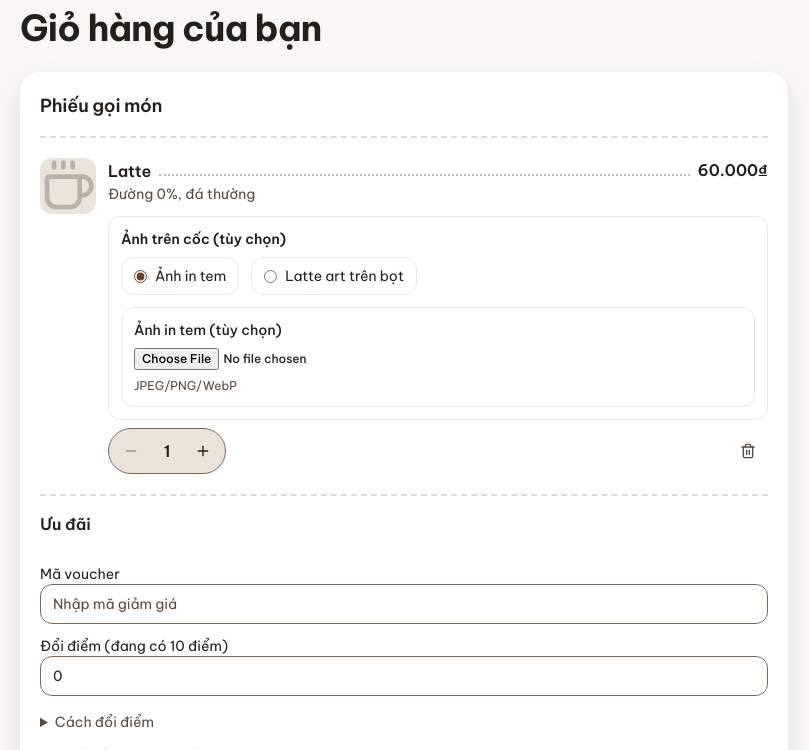
Scenario: members and promotions UI › shows exclusive voucher policy without silently discarding the selected points
Replace the text in the number field named "Điểm muốn đổi" with "10" at (404, 676), box x1=40 y1=656 x2=768 y2=696
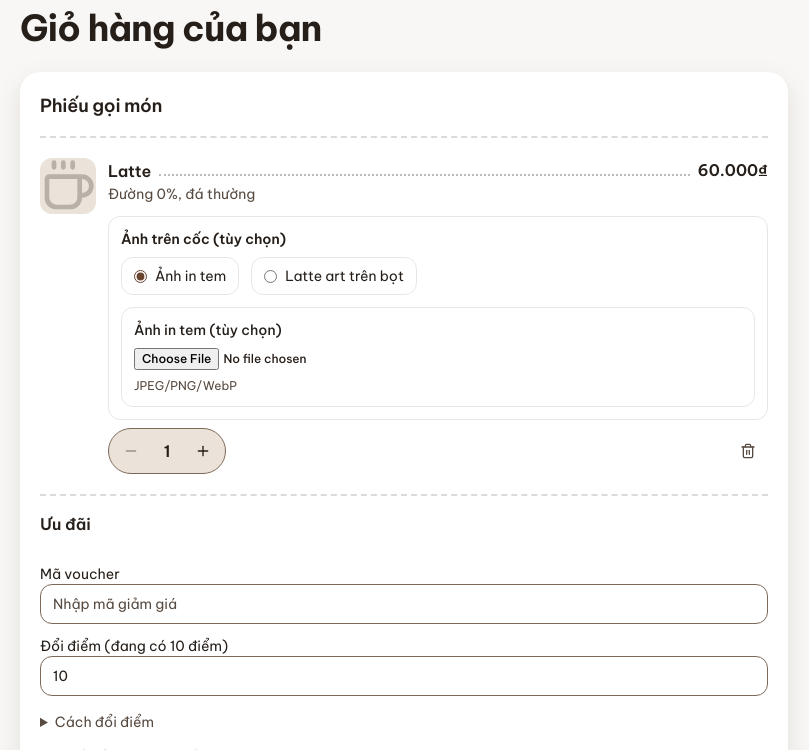
Type "SAVE10" into the field labelled "Mã voucher".
click(404, 604); type("SAVE10")  # box x1=40 y1=584 x2=768 y2=624
(page scrolled)
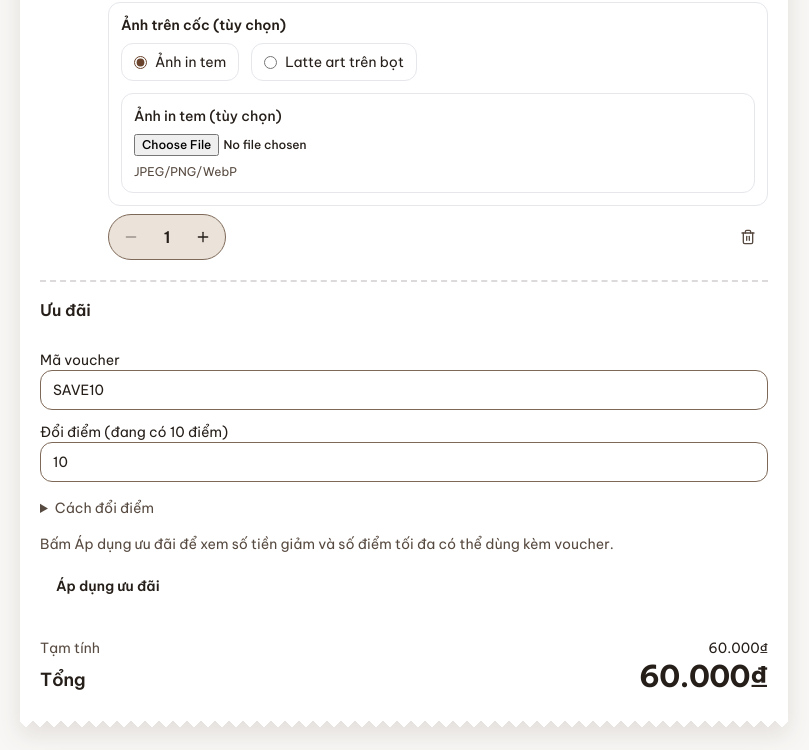
Click the button "Áp dụng ưu đãi".
click(108, 586)  # box x1=40 y1=566 x2=176 y2=606
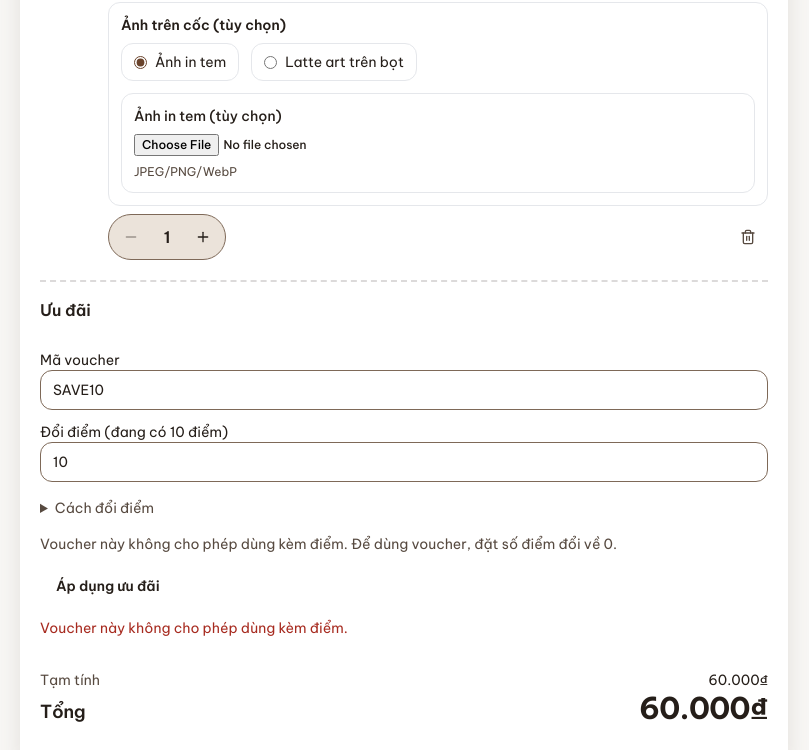
Expected: the text "Voucher này không cho phép dùng kèm điểm." is shown, x1=40 y1=619 x2=348 y2=637
